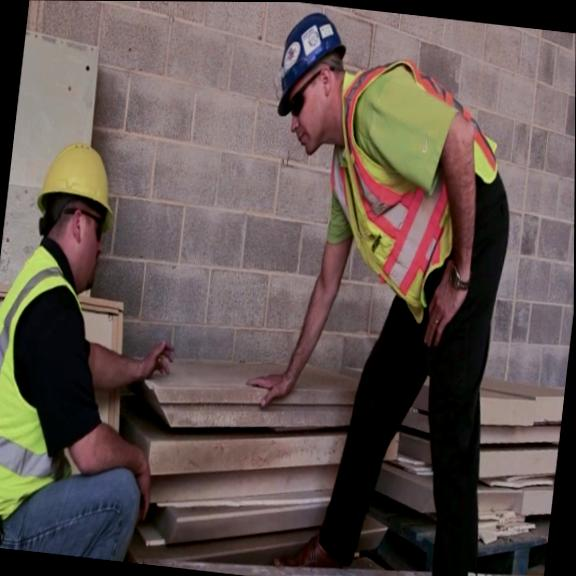safety_vest: (310, 54, 507, 327), (0, 241, 100, 556)
